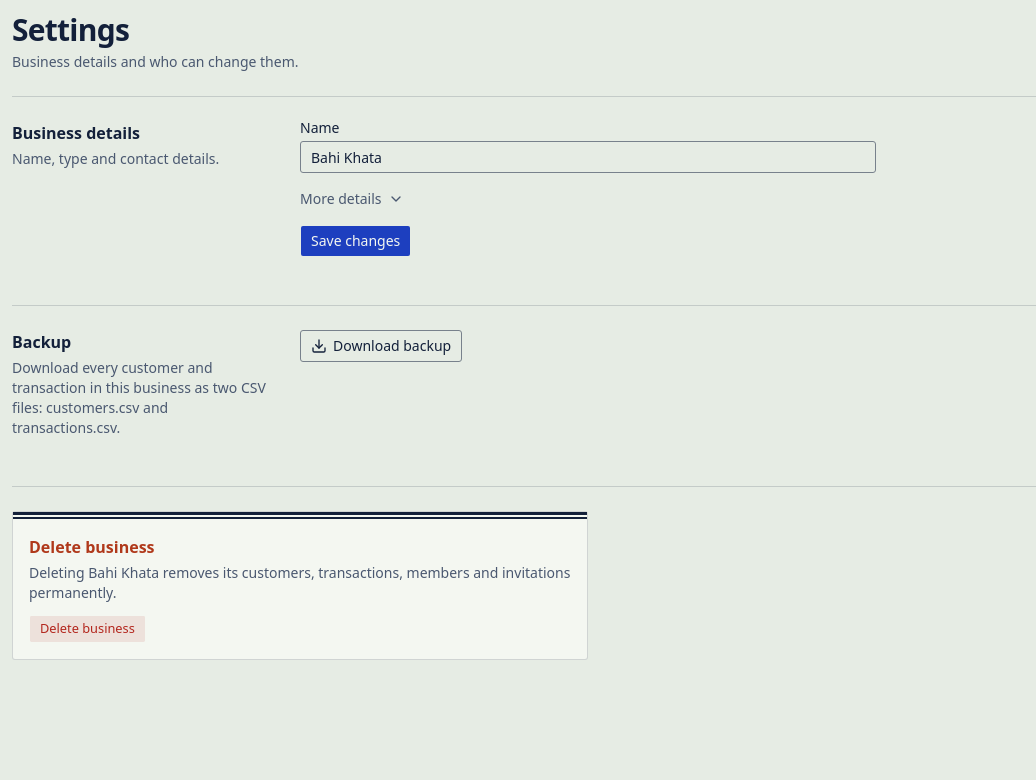
Scenario: S-18 business settings page › shows the same inline name error as creation and saves nothing
Replace the text in the field showing "Bahi Khata" with "x" at (588, 157), box [300,141,876,173]
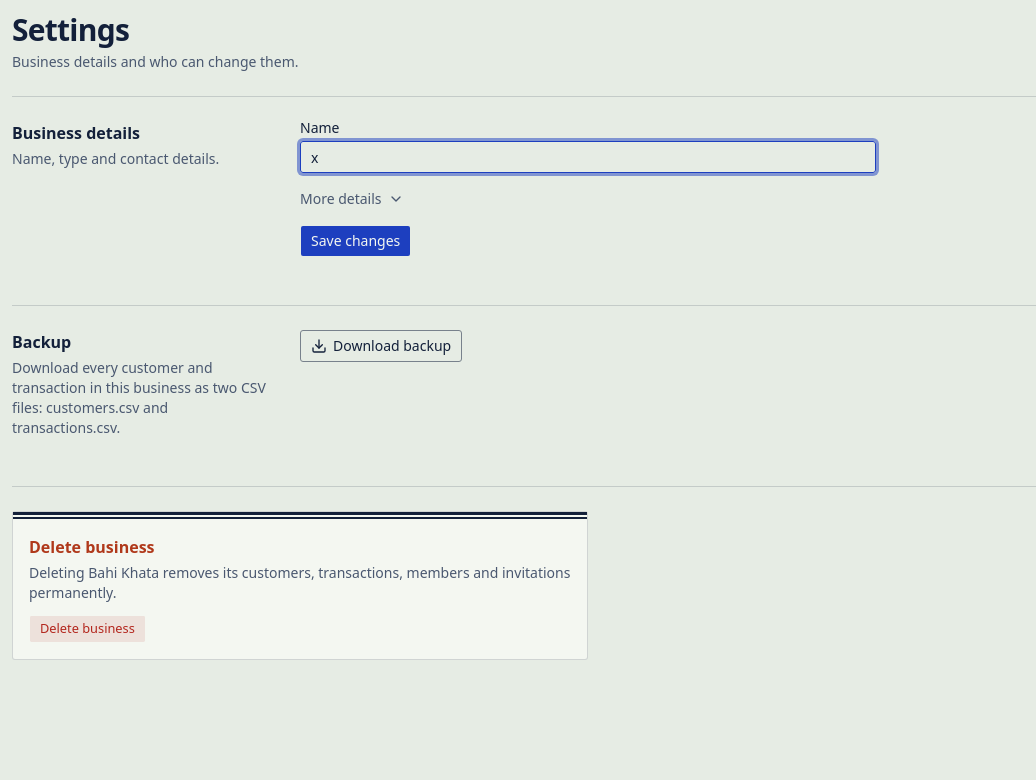
Click the button "Save changes" at (356, 241), box [300,225,411,257]
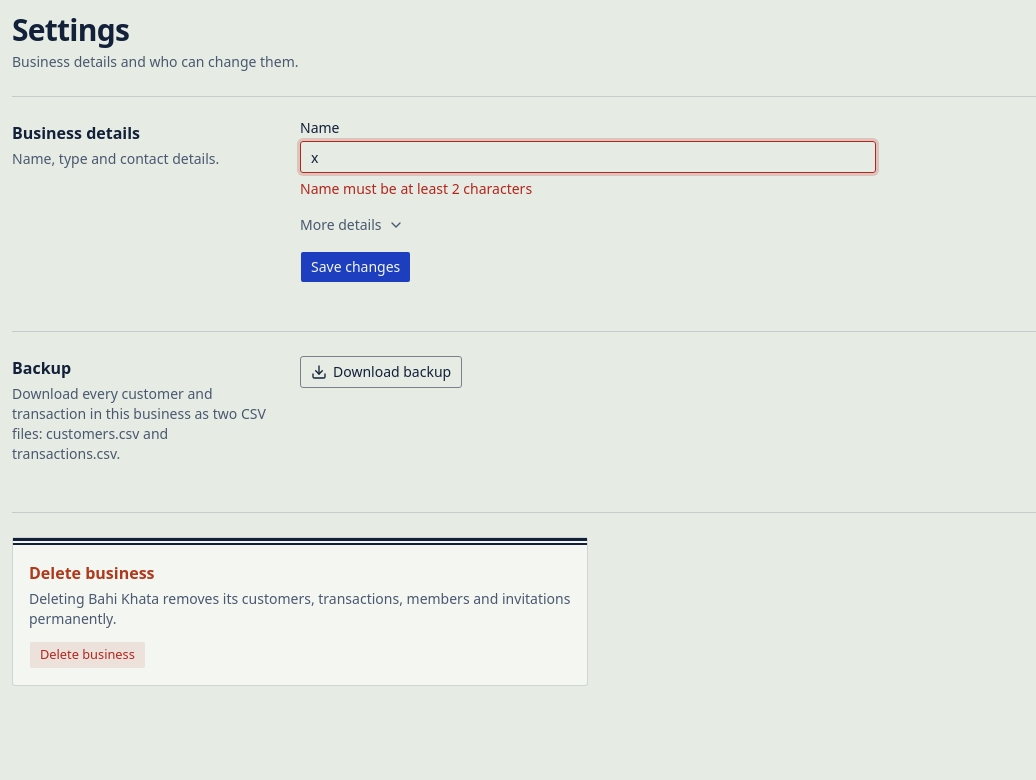
Now the text "Name must be at least 2 characters" is shown, box [300,179,532,198]
